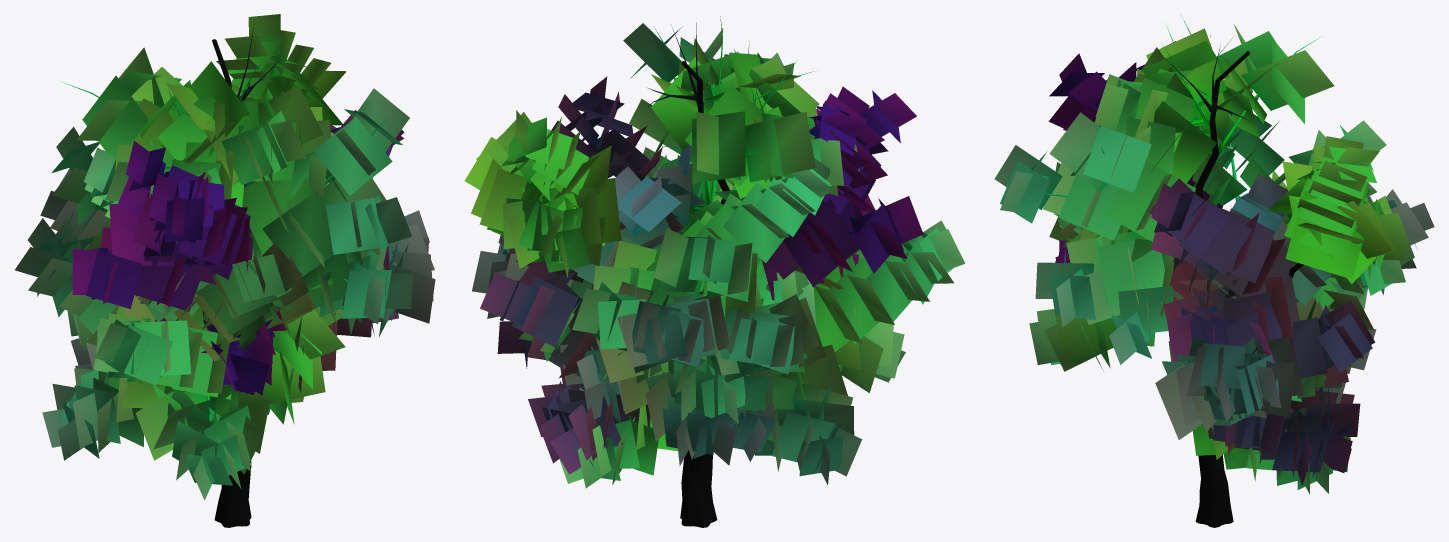
Rendered from envTree_01.fbx.
3 views of the same model, side by side, from view 1: azimuth 30°, elevation 25°; view 2: azimuth 150°, elevation 25°; view 3: azimuth 270°, elevation 25° (orthographic).
Parts seen in each view (by area): view 1: leaf_opacity01_1, _0; view 2: leaf_opacity01_1, _0; view 3: leaf_opacity01_1, _0.
Boxes of the visible parts, bbox=[...] form: leaf_opacity01_1: bbox=[15, 14, 435, 500]; _0: bbox=[62, 24, 390, 527]; leaf_opacity01_1: bbox=[464, 23, 965, 488]; _0: bbox=[593, 16, 857, 527]; leaf_opacity01_1: bbox=[994, 24, 1434, 494]; _0: bbox=[1044, 15, 1322, 527].
Bounding box in the file's own units: 403 × 472 × 384.
